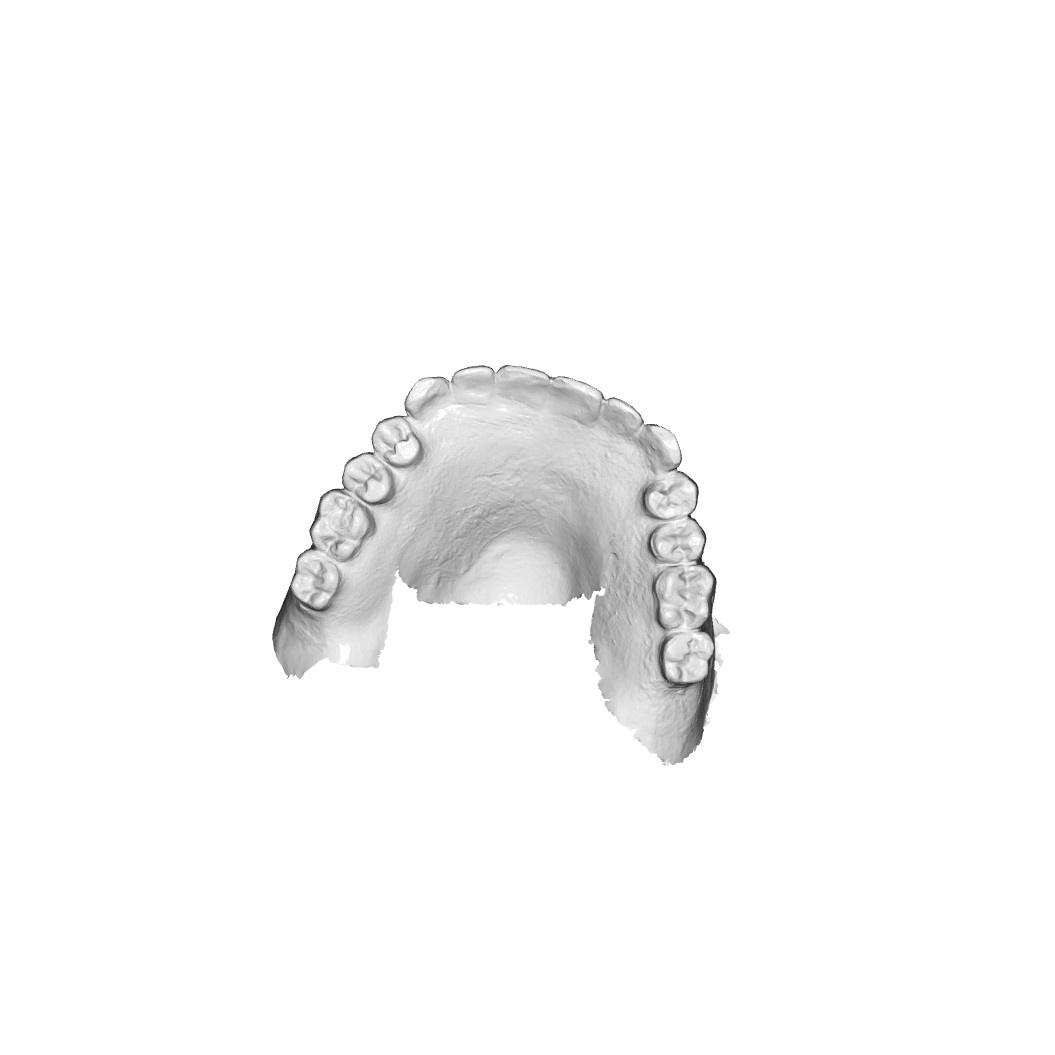canine: (640, 422, 686, 473), (407, 377, 450, 420)
incisor: (549, 375, 603, 431), (497, 365, 550, 409), (448, 367, 495, 405), (602, 394, 642, 437)
molar: (304, 490, 377, 563), (656, 561, 716, 633), (288, 552, 347, 610), (663, 633, 715, 690)
premolar: (342, 451, 395, 503), (372, 416, 422, 470), (647, 470, 701, 519), (652, 518, 710, 563)
